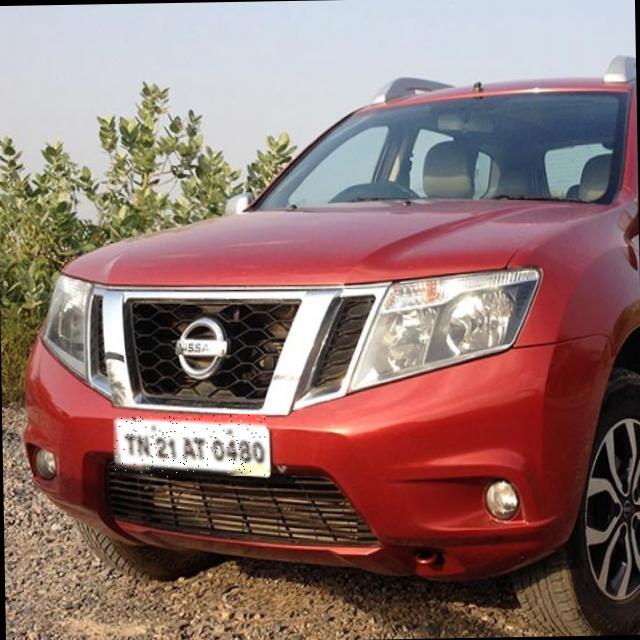Plate: (114, 415, 268, 479)
